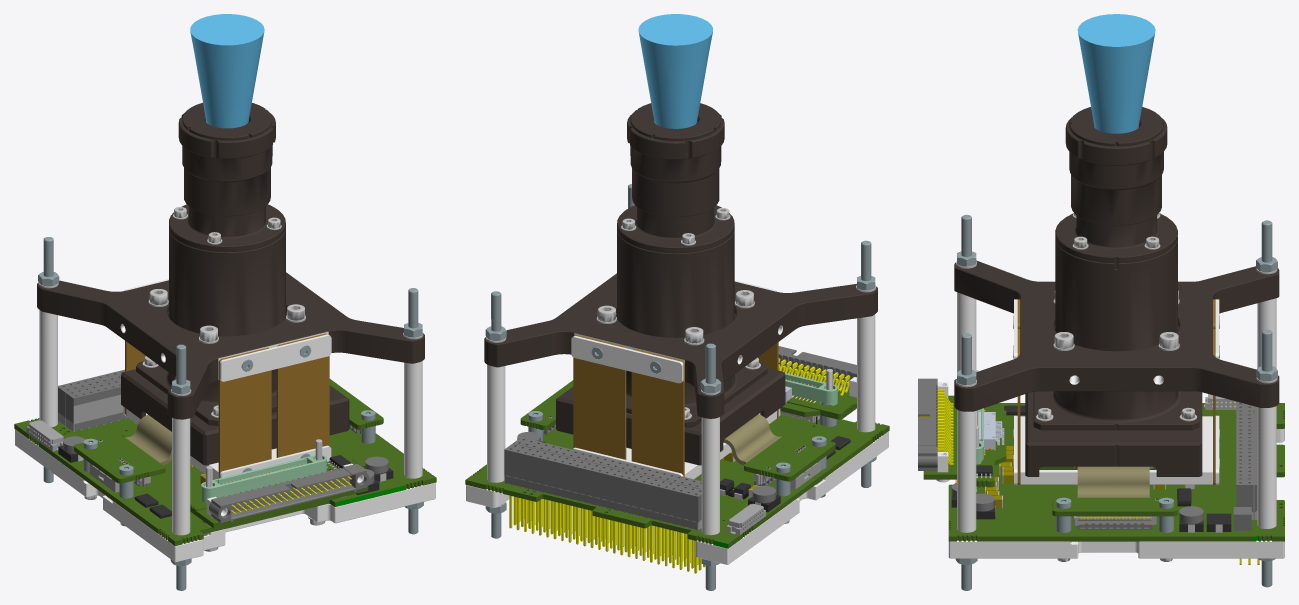
The model's file is camera-opt.glb.
3 renders of one model, left to right at view 1: azimuth 30°, elevation 25°; view 2: azimuth 150°, elevation 25°; view 3: azimuth 270°, elevation 25°, orthographic. The views are drawn at different scales.
Parts seen in each view (by area): view 1: =>0:1:1:19, =>[0:1:1:3], =>0:1:1:8, =>0:1:1:12, =>0:1:1:11; view 2: =>0:1:1:19, =>[0:1:1:3], =>0:1:1:8, =>0:1:1:11, =>0:1:1:12, =>0:1:1:5; view 3: =>0:1:1:19, =>[0:1:1:3], =>0:1:1:8, =>0:1:1:5, =>0:1:1:11.
Boxes of the visible parts, x1,y1,x2,y2 form: =>0:1:1:19: [14, 102, 436, 590]; =>[0:1:1:3]: [26, 14, 388, 492]; =>0:1:1:8: [190, 463, 368, 549]; =>0:1:1:12: [201, 455, 326, 502]; =>0:1:1:11: [190, 439, 364, 551]; =>0:1:1:19: [465, 103, 889, 590]; =>[0:1:1:3]: [504, 14, 821, 573]; =>0:1:1:8: [778, 346, 856, 422]; =>0:1:1:11: [786, 369, 855, 426]; =>0:1:1:12: [785, 373, 837, 405]; =>0:1:1:5: [780, 386, 829, 425]; =>0:1:1:19: [948, 107, 1284, 590]; =>[0:1:1:3]: [951, 14, 1259, 564]; =>0:1:1:8: [918, 378, 982, 482]; =>0:1:1:5: [976, 406, 1006, 465]; =>0:1:1:11: [973, 369, 994, 487].
Size of the model in its own units: 0.0909 by 0.1575 by 0.1046.
